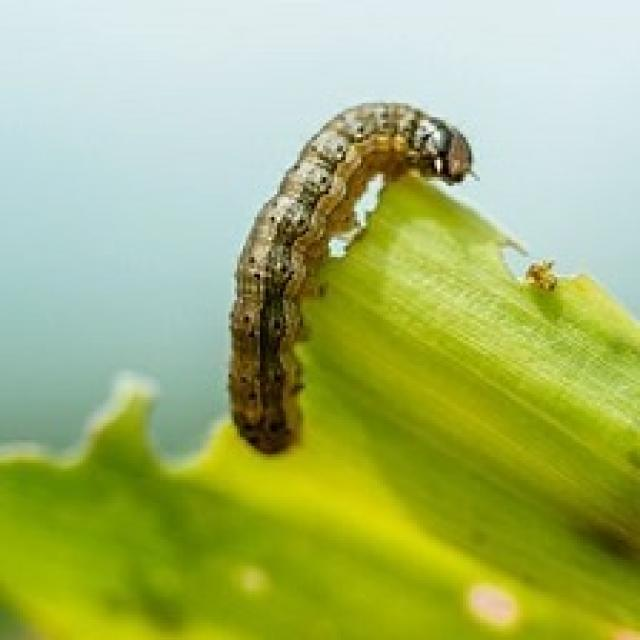Fall-armyworm: (233, 102, 473, 455)
